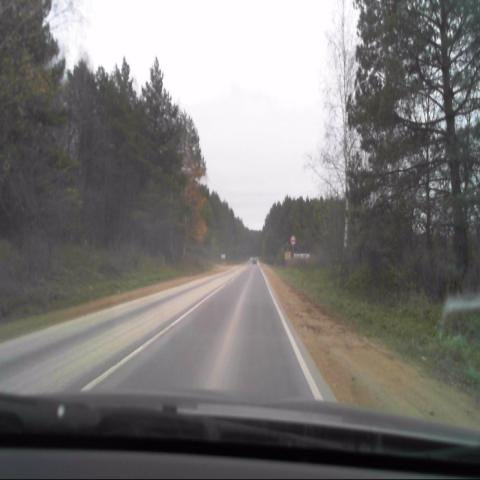3_20: (289, 234, 296, 245)
